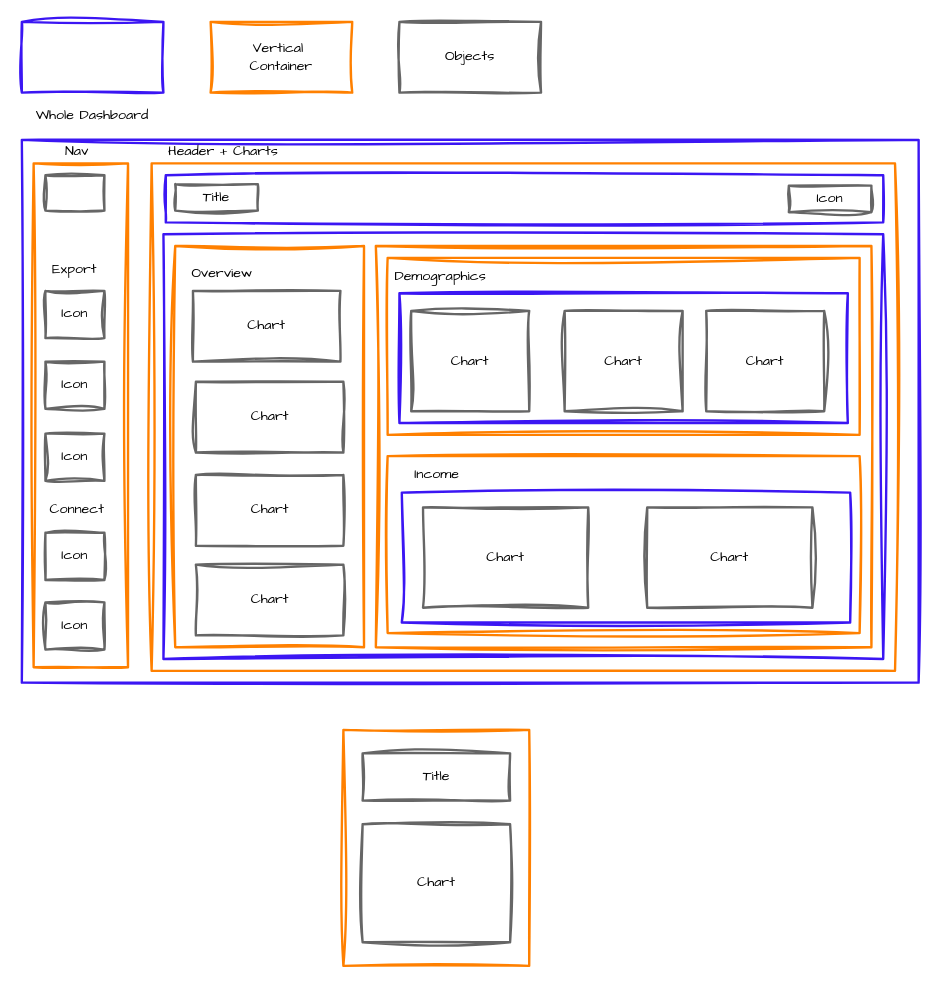
This 939x986 diagram has some shape labels left out. The shapes that lost their labels are listed below. From the top down, each one's centre as x and y in pixels, then its label:
At (x=92, y=56): "Horizontal Container".
At (x=74, y=192): "Logo".
